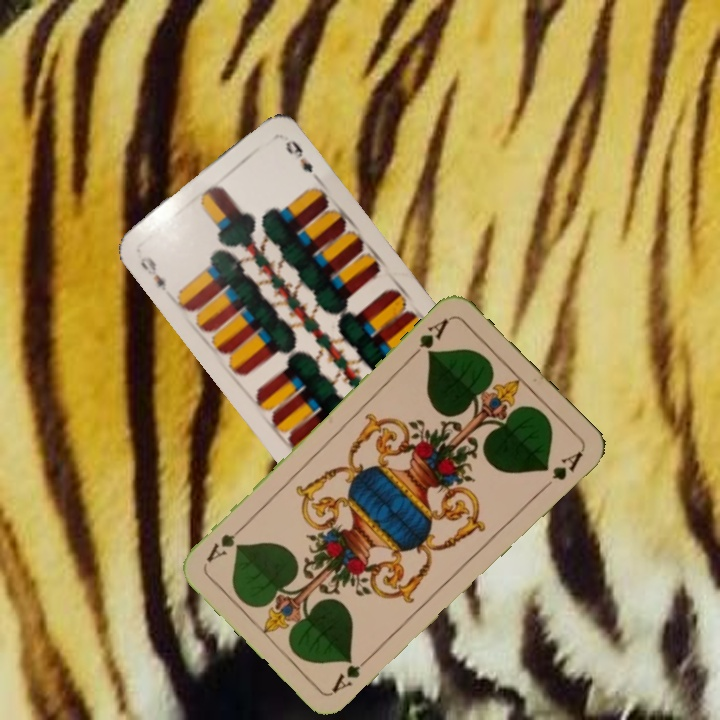E9: (136, 252, 169, 294)
GA: (328, 650, 376, 696), (407, 314, 451, 361)
